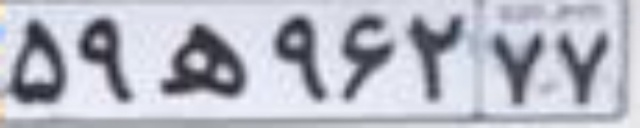2: (406, 13, 462, 101)
5: (9, 18, 64, 102)
6: (335, 14, 394, 100)
7: (552, 27, 614, 105), (493, 29, 546, 104)
9: (75, 19, 132, 101), (271, 15, 325, 101)
he: (155, 23, 250, 98)
